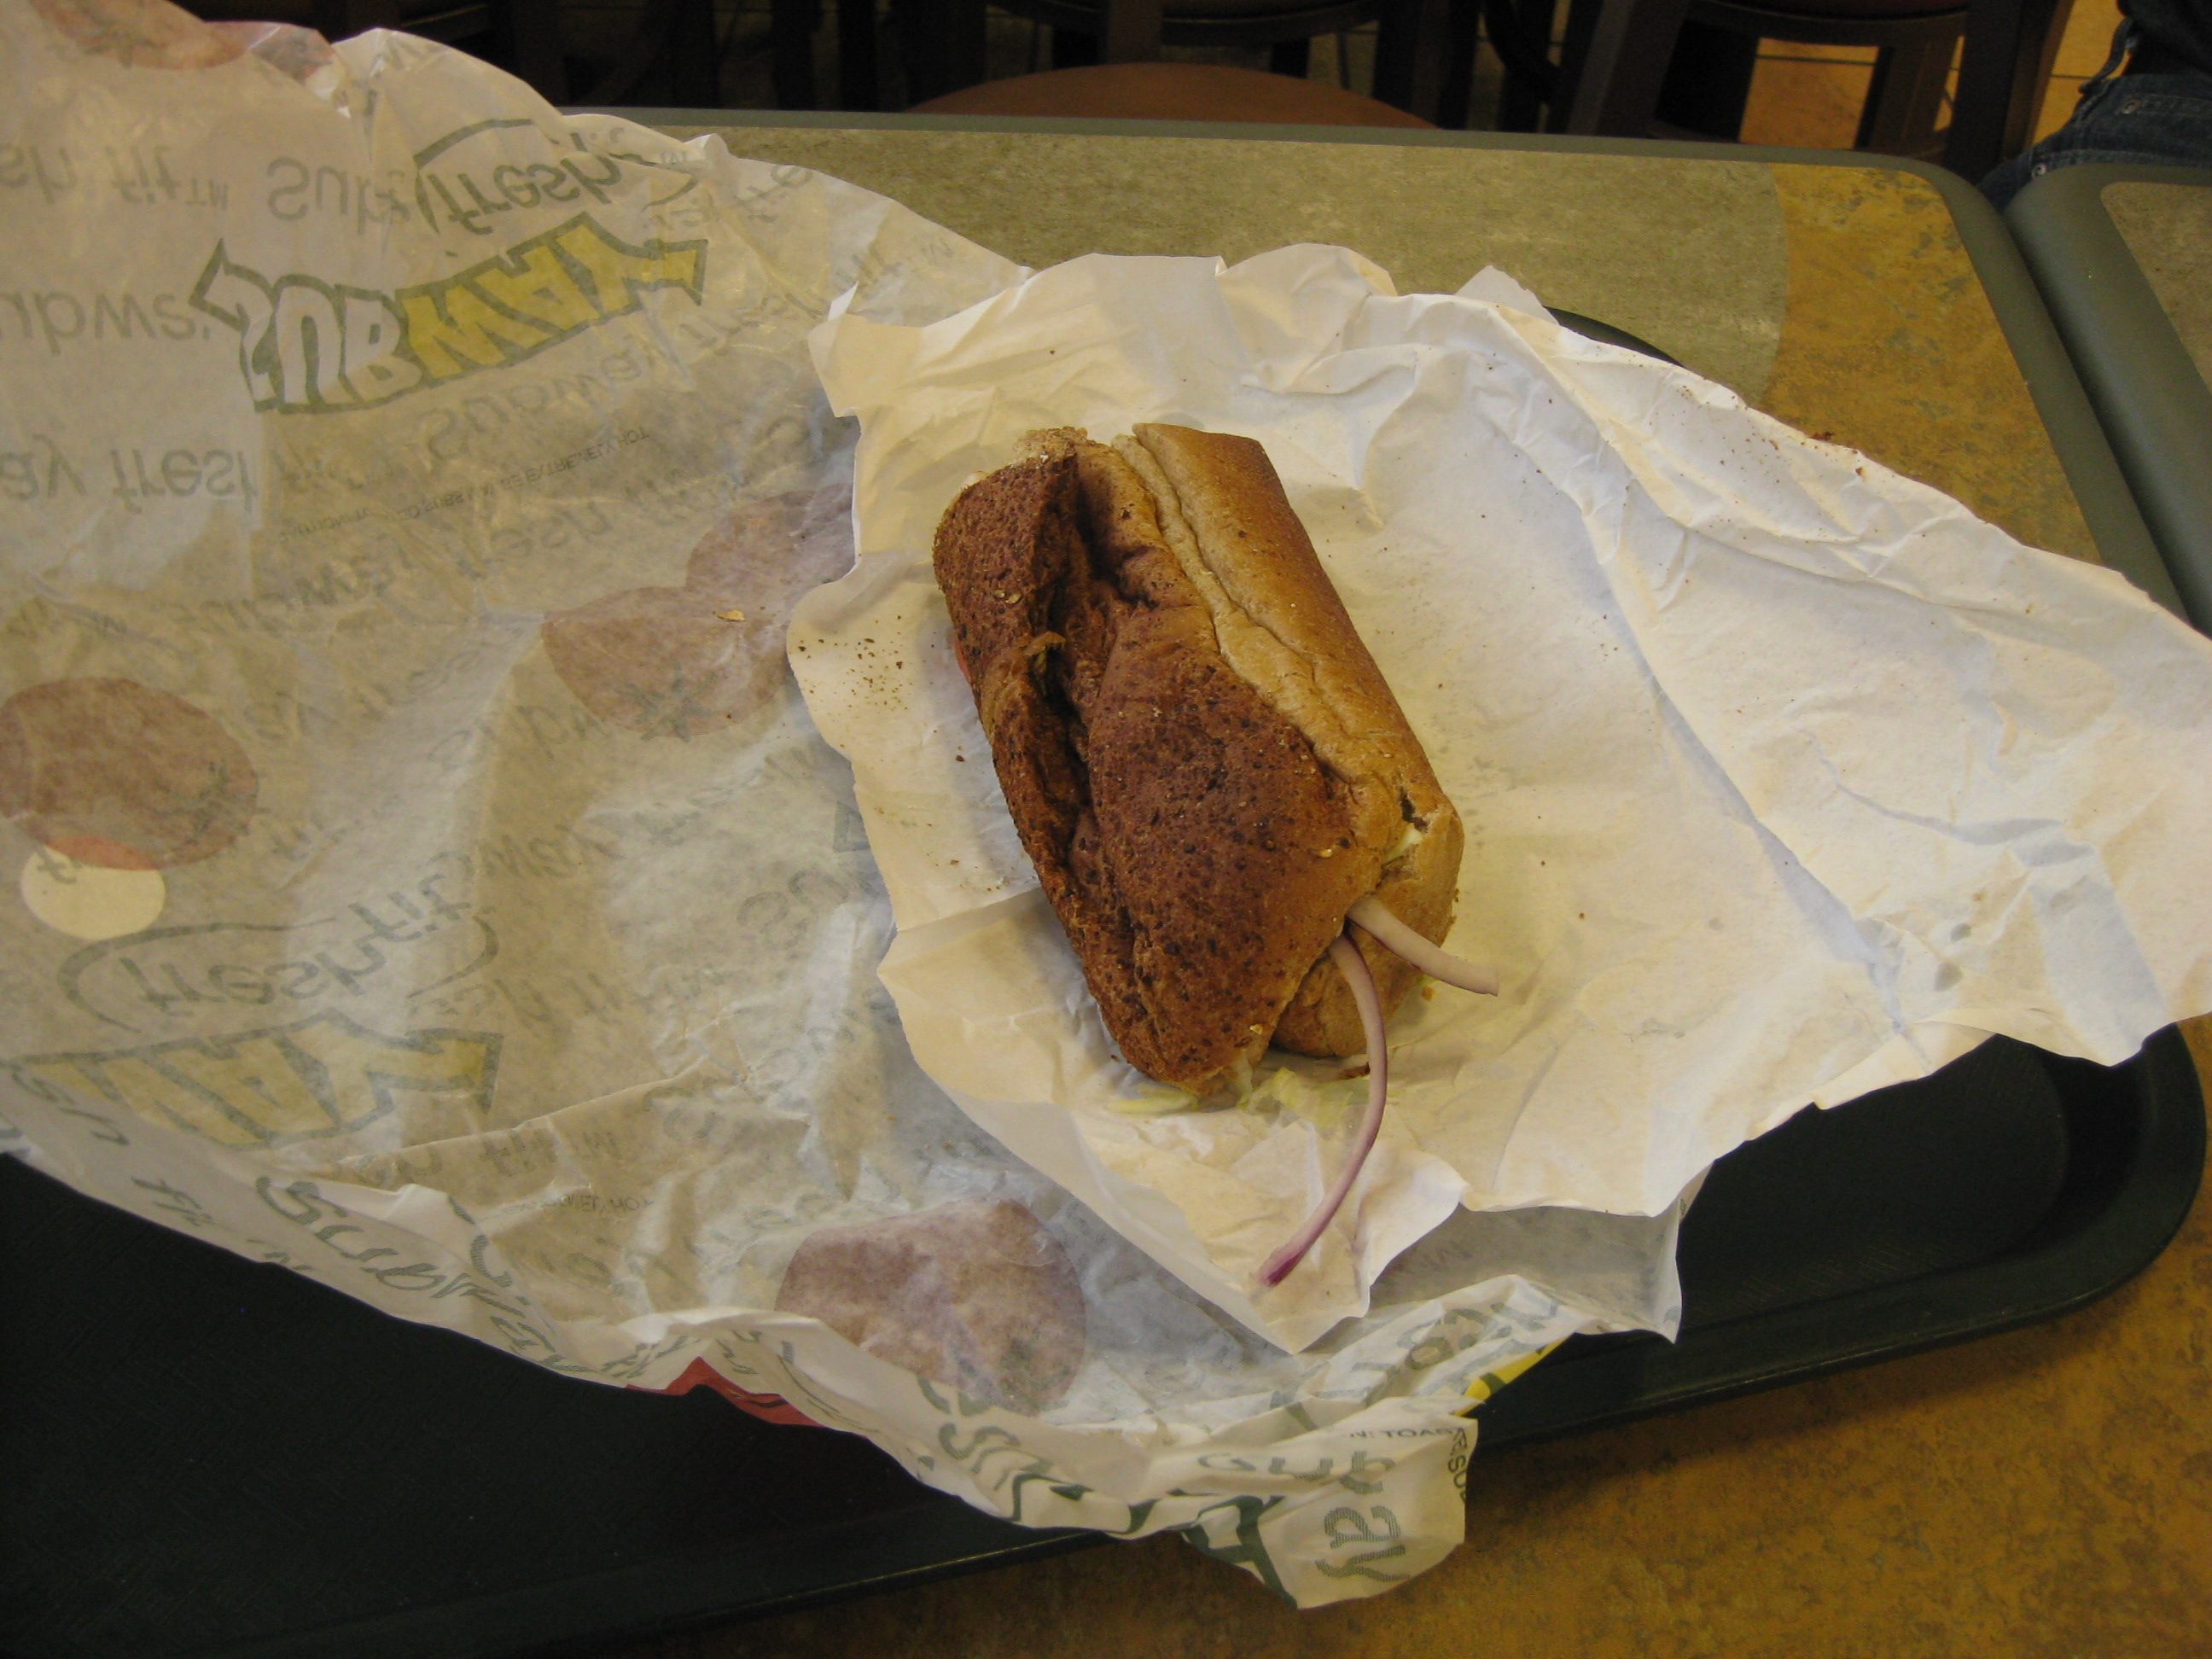sub: (899, 387, 1560, 1109)
